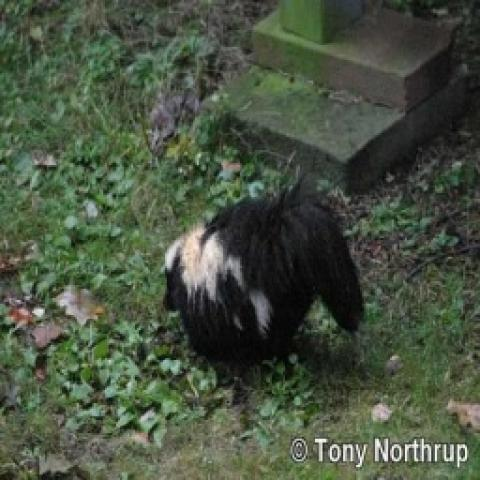small_animal: (160, 173, 368, 373)
